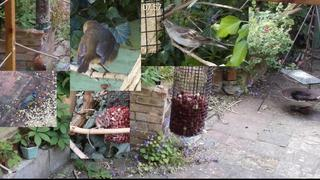blue tit: (20, 91, 37, 107)
mouse: (87, 111, 110, 150)
robin: (76, 20, 121, 79)
sparrow: (161, 18, 229, 57)
